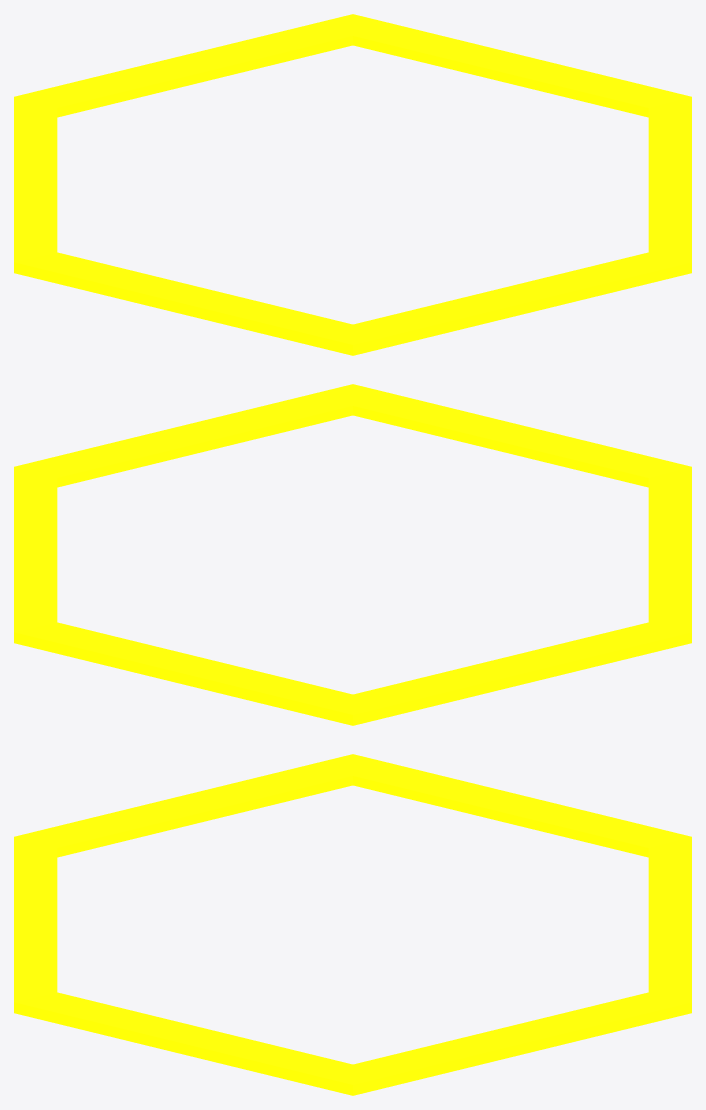
File: Glowring.fbx
3 views of the same model, one above another, from view 1: azimuth 30°, elevation 25°; view 2: azimuth 150°, elevation 25°; view 3: azimuth 270°, elevation 25° (orthographic).
Visible parts, largest first — view 1: polySurface12; view 2: polySurface12; view 3: polySurface12.
Part boxes in pixels (x1=…): polySurface12: x1=14, y1=14, x2=691, y2=355; polySurface12: x1=14, y1=384, x2=691, y2=725; polySurface12: x1=14, y1=754, x2=691, y2=1095.
Size of the model in its own units: 26.23 by 0.4051 by 22.71.
